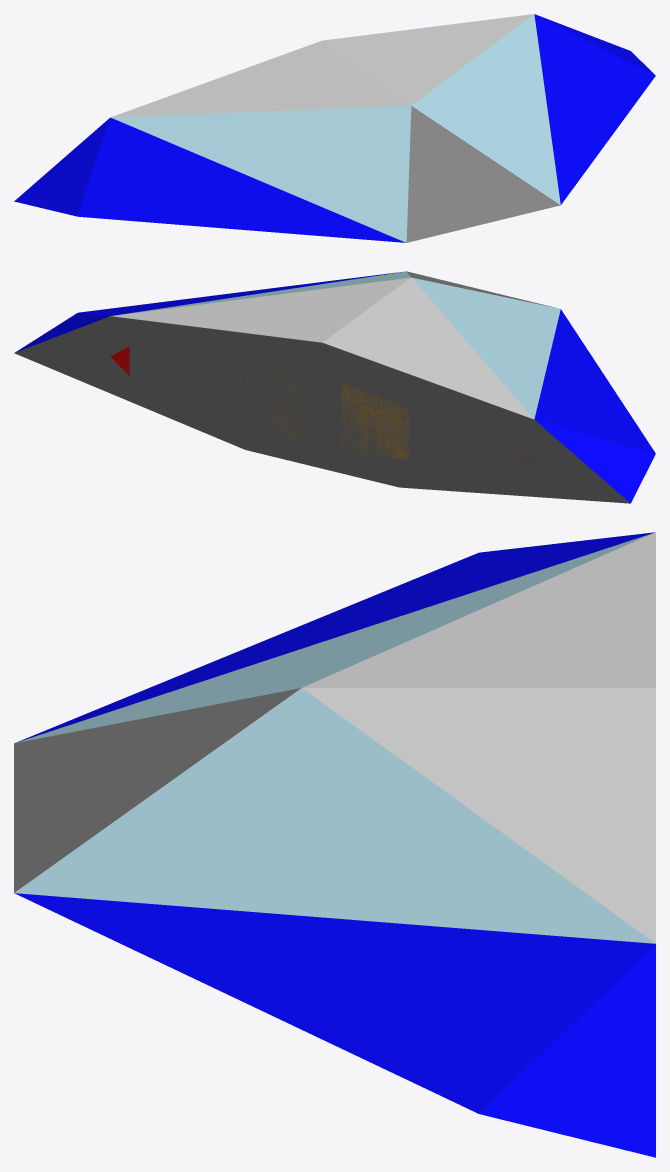
The model's file is cobramk3.obj.
The picture shows the model from 3 angles, top to bottom: view 1: azimuth 30°, elevation 25°; view 2: azimuth 150°, elevation 25°; view 3: azimuth 270°, elevation 25°; orthographic projection. The views are drawn at different scales.
Bounding box in the file's own units: 256 × 50 × 116.
